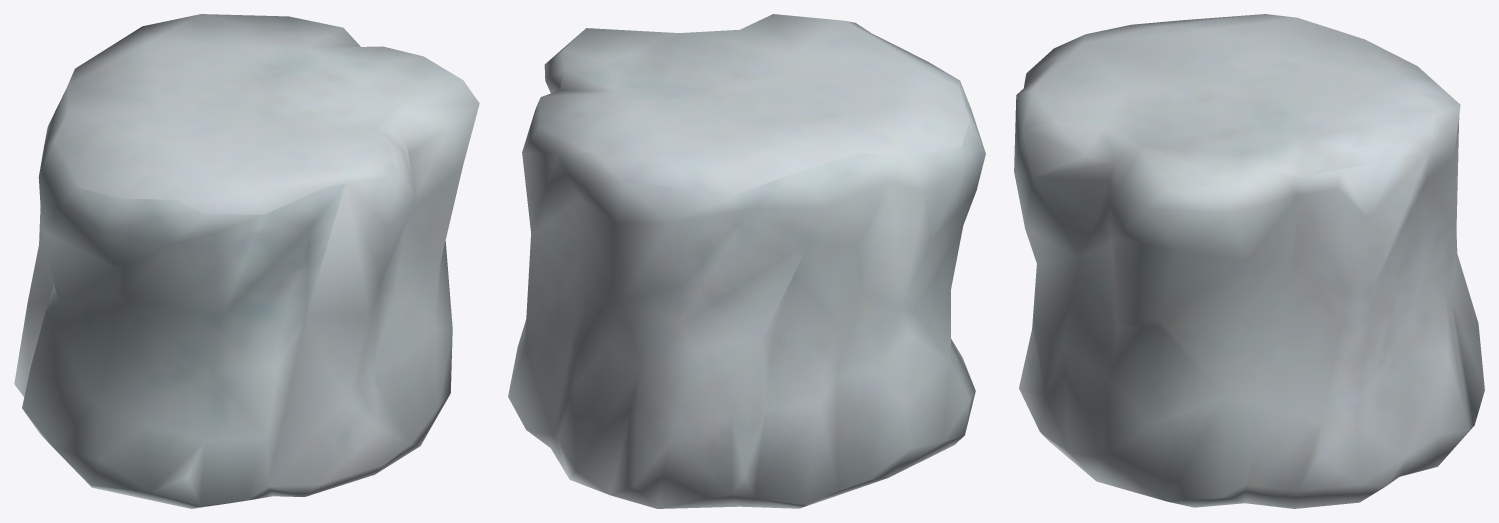
Rendered from P_ShelfClassic5.obj.
3 renders of one model, left to right at view 1: azimuth 30°, elevation 25°; view 2: azimuth 150°, elevation 25°; view 3: azimuth 270°, elevation 25°, orthographic. The views are drawn at different scales.
Bounding box in the file's own units: 11.53 × 9.16 × 11.34.
